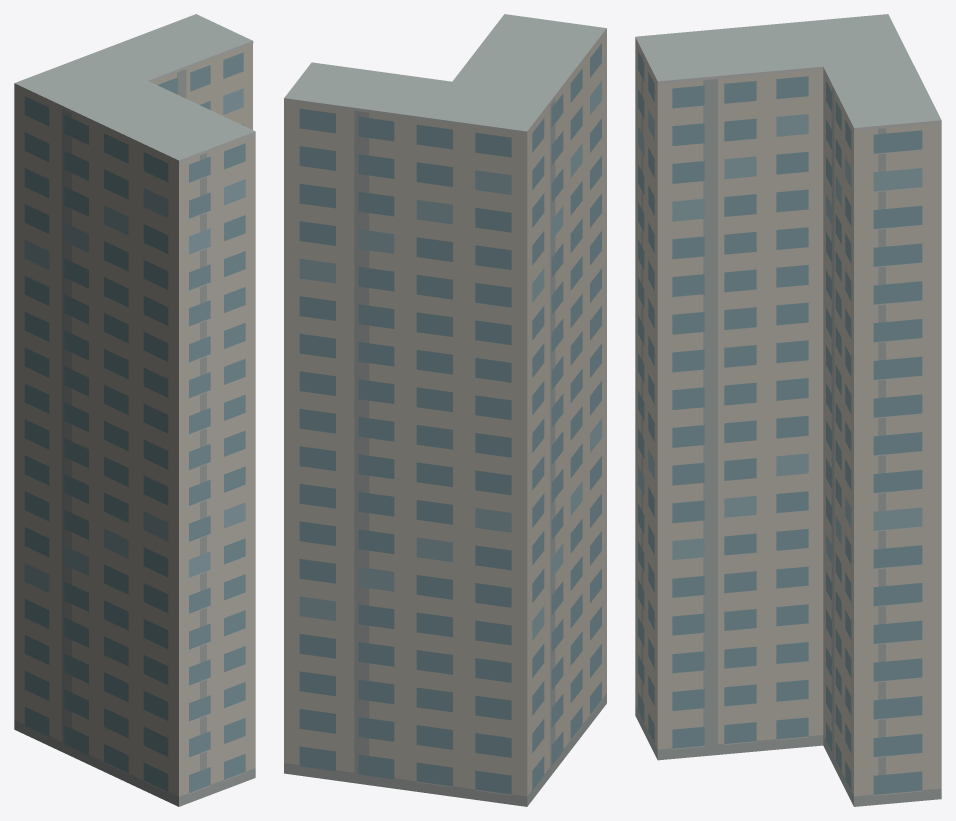
Rendered from residential-cbf9655a-018a-47dd-83b1-3c5f25505957.glb.
3 renders of one model, left to right at view 1: azimuth 30°, elevation 25°; view 2: azimuth 150°, elevation 25°; view 3: azimuth 270°, elevation 25°, orthographic. The views are drawn at different scales.
Visible parts, largest first — view 1: residential-cbf9655a-018a-47dd-83b1-3c5f25505957.tmp; view 2: residential-cbf9655a-018a-47dd-83b1-3c5f25505957.tmp; view 3: residential-cbf9655a-018a-47dd-83b1-3c5f25505957.tmp.
Part boxes in pixels (box(x1,y1,x2,y2)): residential-cbf9655a-018a-47dd-83b1-3c5f25505957.tmp: box(14, 14, 255, 806); residential-cbf9655a-018a-47dd-83b1-3c5f25505957.tmp: box(284, 14, 606, 806); residential-cbf9655a-018a-47dd-83b1-3c5f25505957.tmp: box(635, 14, 941, 806).
Bounding box in the file's own units: 20.19 × 56 × 22.91.
